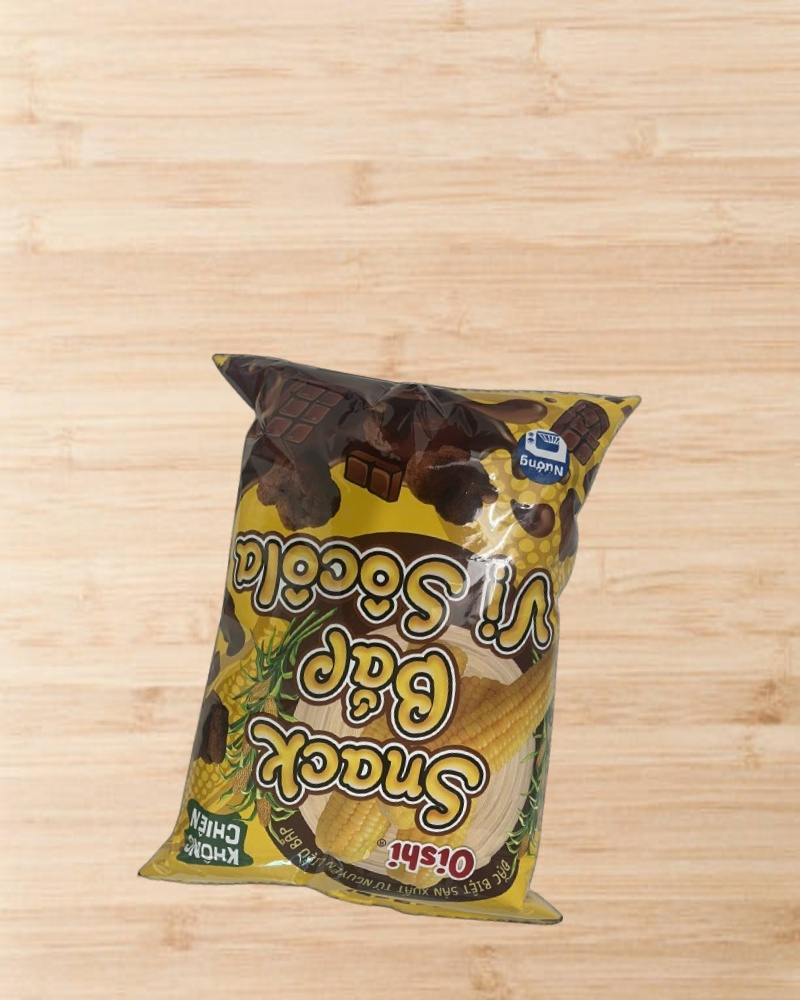Snack socola: (124, 326, 654, 950)
